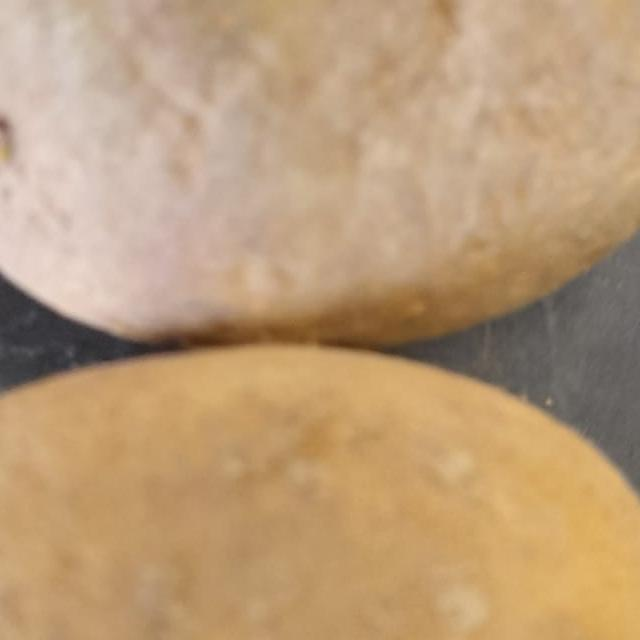potato: (0, 0, 640, 369), (0, 293, 640, 640)
